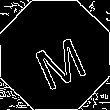M_NW: (24, 23, 86, 87)
